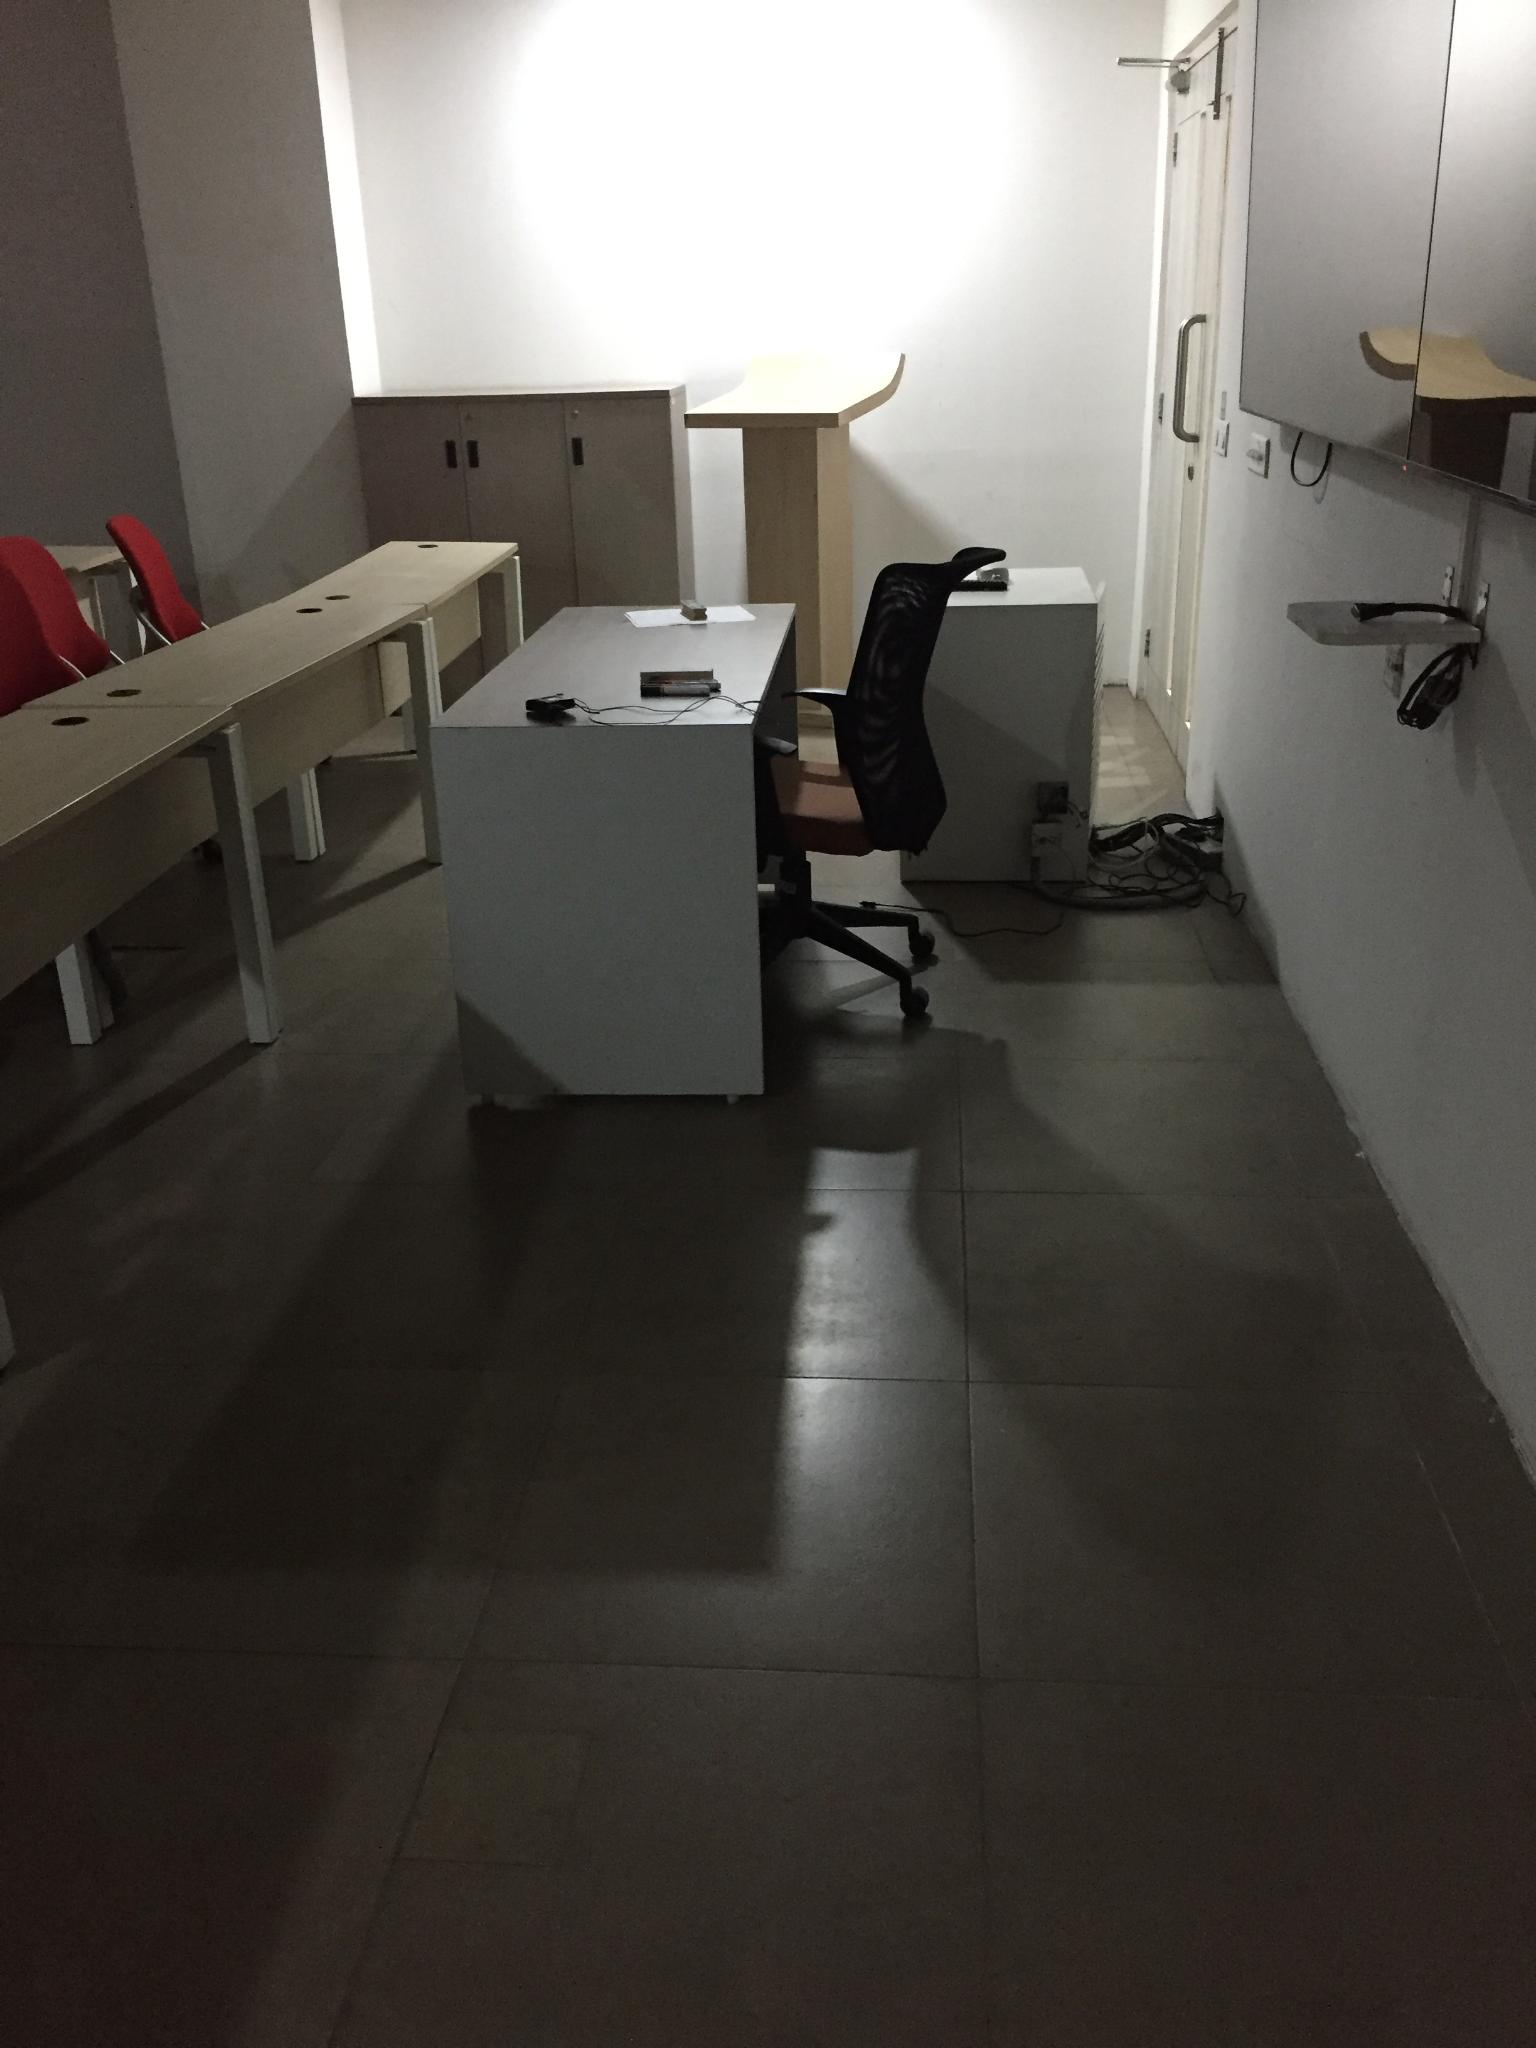chair: (755, 543, 1007, 1018), (0, 534, 118, 1063), (118, 485, 221, 927)
